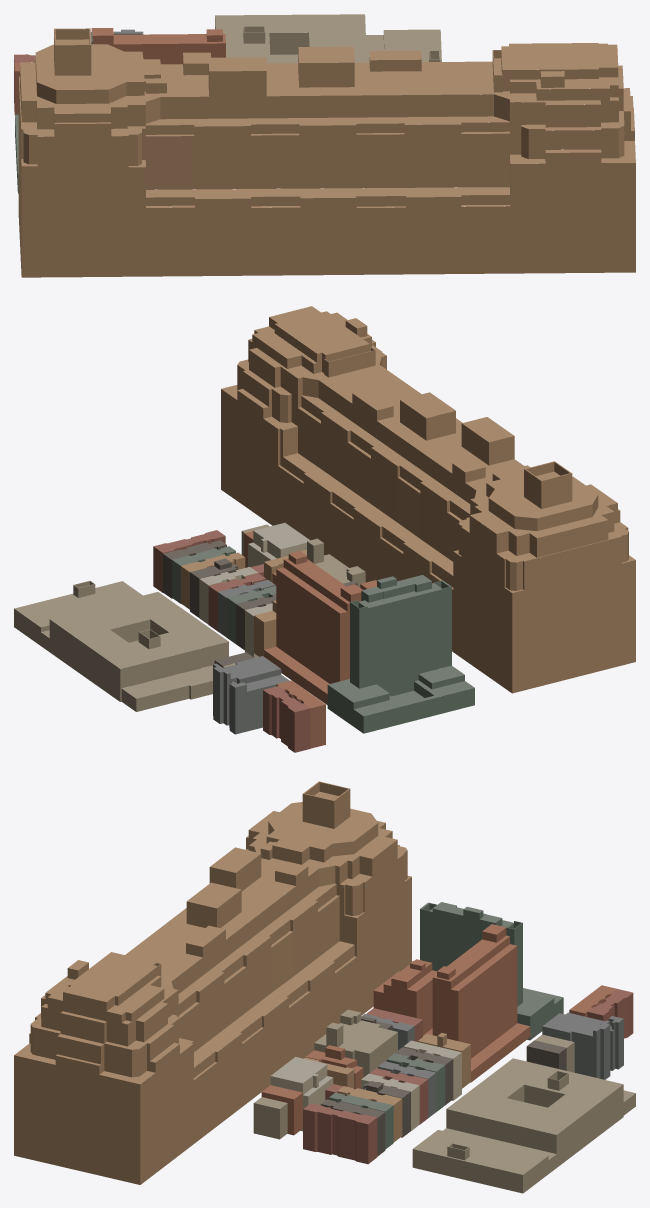
Rendered from tile--3_-7.glb.
3 renders of one model, top to bottom at view 1: azimuth 30°, elevation 25°; view 2: azimuth 150°, elevation 25°; view 3: azimuth 270°, elevation 25°, orthographic. The views are drawn at different scales.
Visible parts, largest first — view 1: wall, roof; view 2: wall, roof; view 3: wall, roof.
Boxes of the visible parts, bbox=[...] form: wall: bbox=[14, 18, 635, 277]; roof: bbox=[14, 14, 635, 207]; wall: bbox=[14, 317, 635, 752]; roof: bbox=[14, 306, 635, 716]; wall: bbox=[14, 782, 635, 1193]; roof: bbox=[14, 781, 635, 1174].
Size of the model in its own units: 251 by 92.61 by 269.
